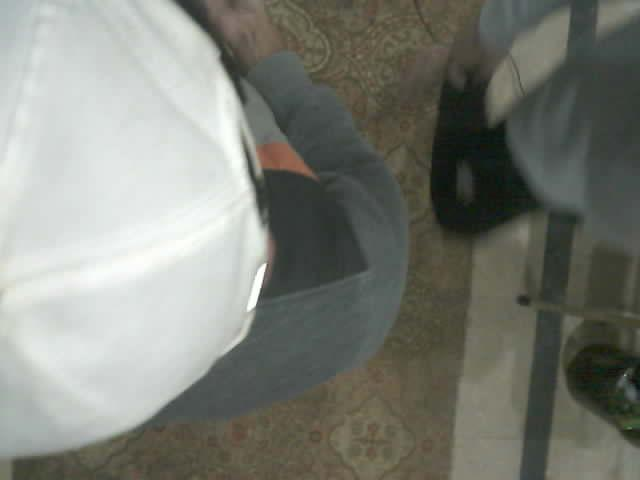cap: (0, 0, 274, 458)
